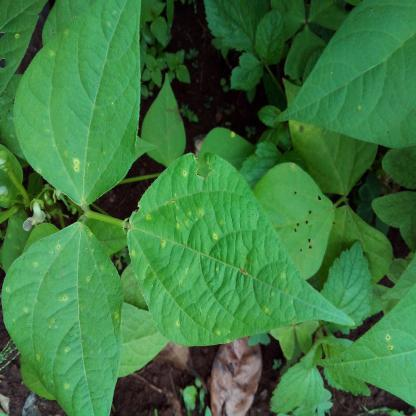Beans_Rust: (128, 152, 356, 344), (15, 0, 143, 208), (0, 223, 123, 416), (280, 0, 416, 148), (314, 284, 416, 408), (199, 127, 252, 172)
